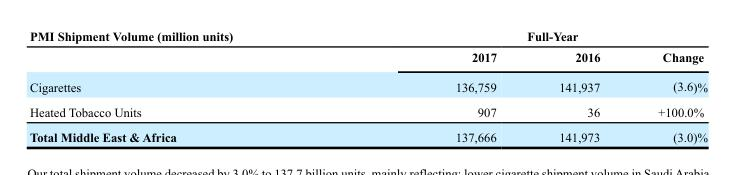table: (28, 28, 706, 143)
table column: (28, 28, 343, 143), (343, 28, 527, 143), (527, 28, 628, 143), (628, 28, 706, 143)
table column header: (28, 28, 706, 71)
table row: (28, 71, 706, 98), (28, 98, 706, 124), (28, 46, 706, 71), (28, 124, 706, 143), (28, 28, 706, 46)
table spanning cell: (28, 28, 343, 71), (343, 28, 706, 46)
